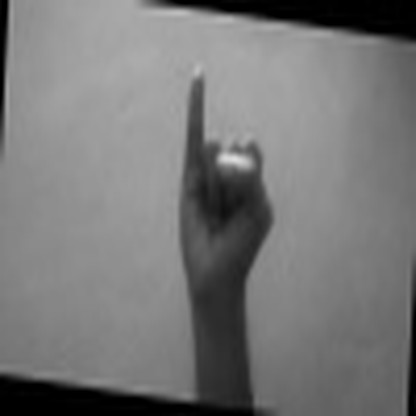i: (160, 62, 293, 297)
